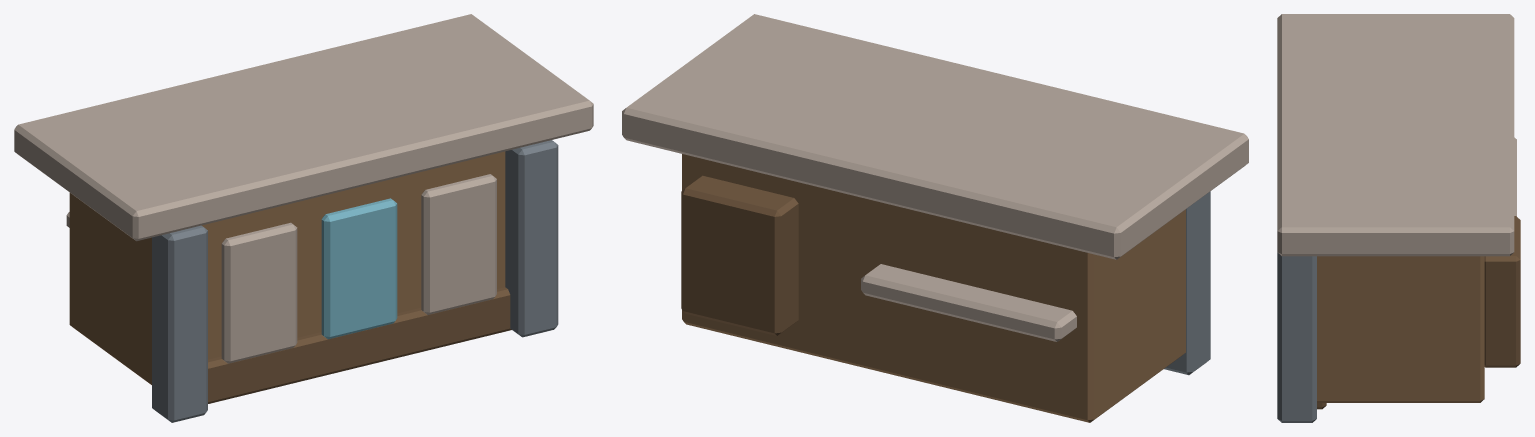
Rendered from business_service_counter.lod1.glb.
3 renders of one model, left to right at view 1: azimuth 30°, elevation 25°; view 2: azimuth 150°, elevation 25°; view 3: azimuth 270°, elevation 25°, orthographic. The views are drawn at different scales.
Size of the model in its own units: 2.08 by 0.95 by 0.985.
